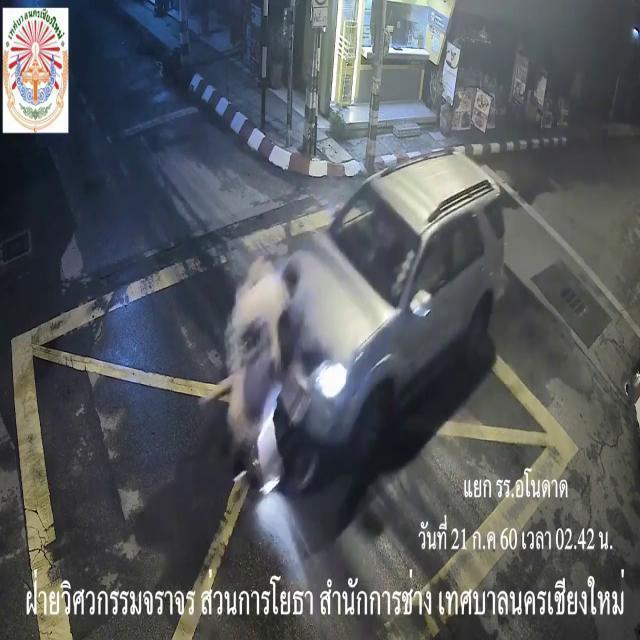accident: (211, 149, 509, 487)
